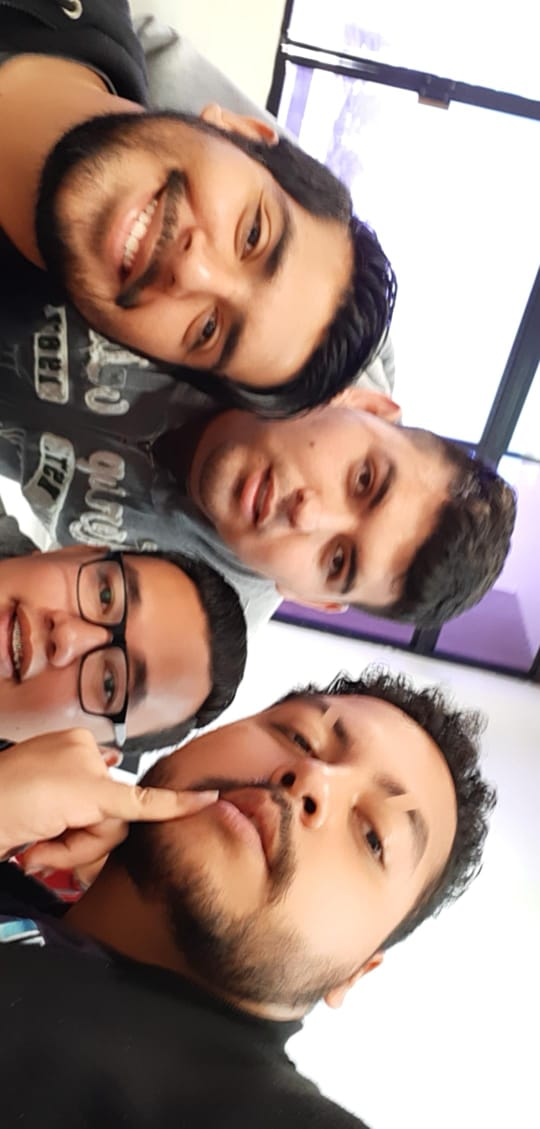Yoshi: (157, 645, 491, 1027)
